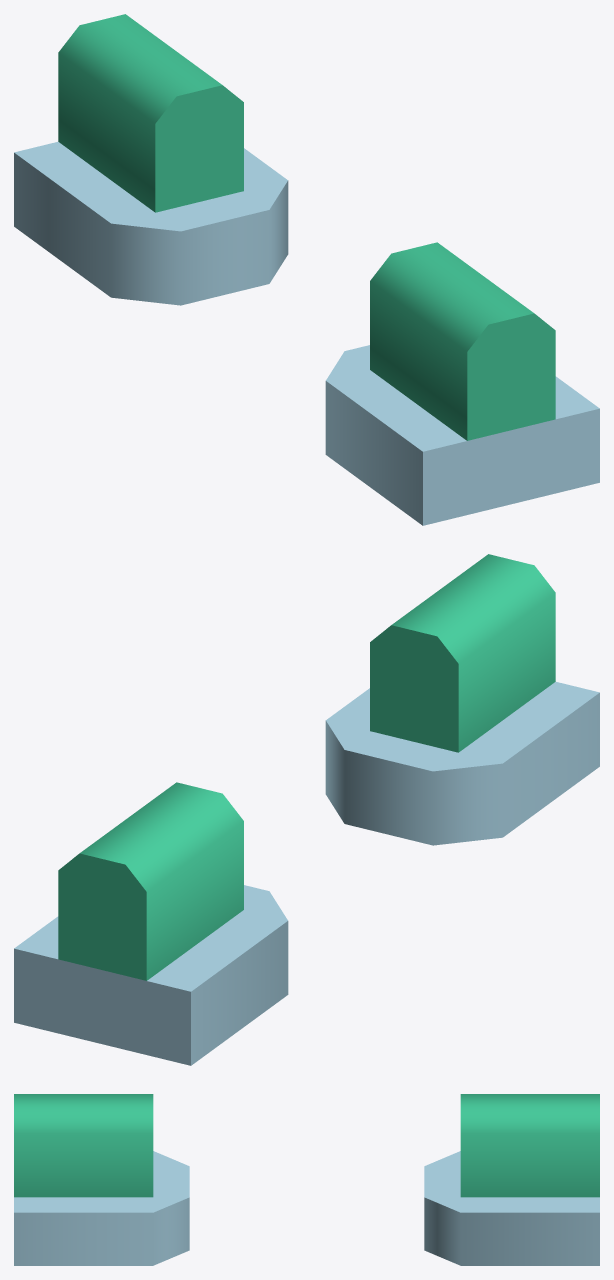
Rendered from hedgeGate.obj.
3 renders of one model, top to bottom at view 1: azimuth 30°, elevation 25°; view 2: azimuth 150°, elevation 25°; view 3: azimuth 270°, elevation 25°, orthographic. The views are drawn at different scales.
Parts seen in each view (by area): view 1: hedgeGate; view 2: hedgeGate; view 3: hedgeGate.
Part boxes in pixels (left/top/right/bottom): hedgeGate: left=14, top=14, right=599, bottom=525; hedgeGate: left=14, top=554, right=599, bottom=1065; hedgeGate: left=14, top=1094, right=599, bottom=1265.
Bounding box in the file's own units: 0.25 × 0.25 × 1.
